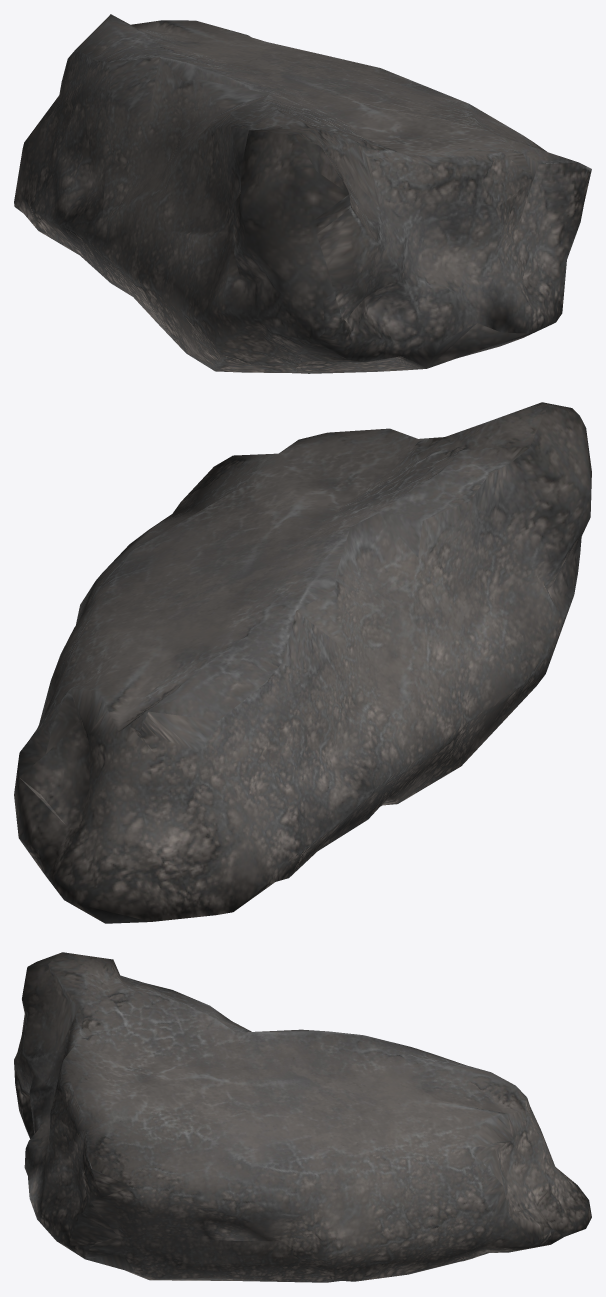
The model's file is Rock_medium_05_GREY.fbx.
3 renders of one model, top to bottom at view 1: azimuth 30°, elevation 25°; view 2: azimuth 150°, elevation 25°; view 3: azimuth 270°, elevation 25°, orthographic. The views are drawn at different scales.
Visible parts, largest first — view 1: Rock_medium_05_GREY; view 2: Rock_medium_05_GREY; view 3: Rock_medium_05_GREY.
Part boxes in pixels (x1=…): Rock_medium_05_GREY: x1=14, y1=14, x2=591, y2=373; Rock_medium_05_GREY: x1=14, y1=402, x2=591, y2=923; Rock_medium_05_GREY: x1=14, y1=952, x2=591, y2=1282.
Size of the model in its own units: 0.4766 by 0.3657 by 0.8174.
Materials: 1 (1 with a texture image).
